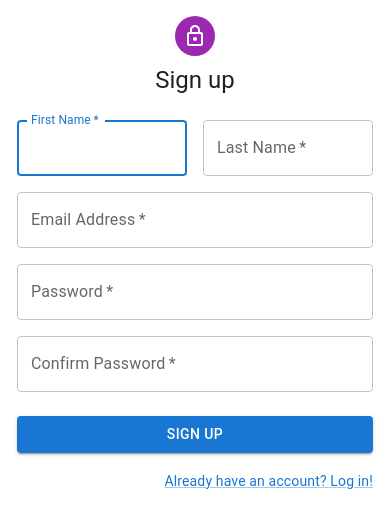
it: Sign Up Page › shows error message when passwords do not match
Type "test@example.com" into the field labelled "Email Address *". click: (195,220)
box: [17,192,373,248]
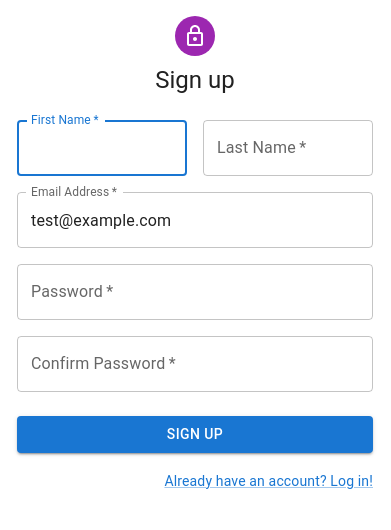
Type "Test" into the field labelled "First Name *". click: (102,148)
box: [17,120,187,176]
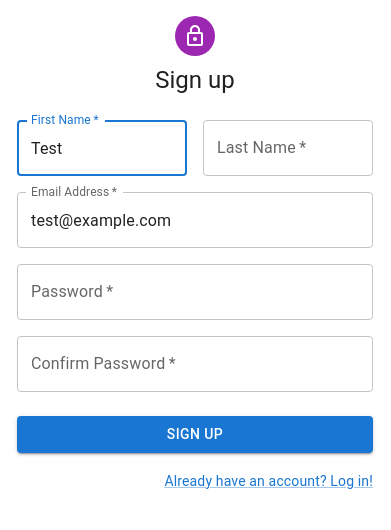
Type "User" into the field labelled "Last Name *". click: (288,148)
box: [203,120,373,176]
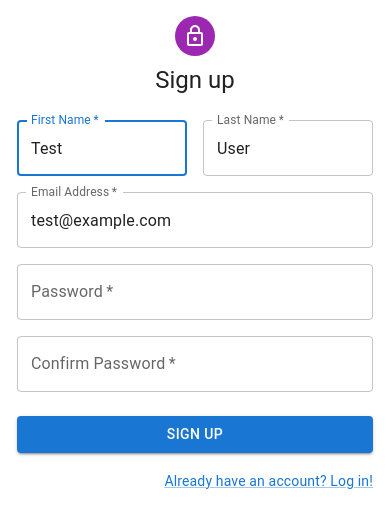
Type "password123" into the password field labelled "Password *". click: (195,292)
box: [17,264,373,320]
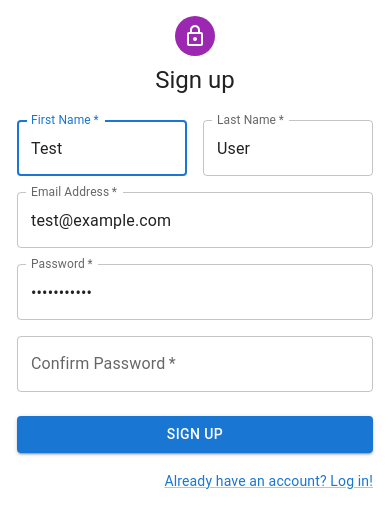
Type "password124" into the password field labelled "Confirm Password *". click: (195,364)
box: [17,336,373,392]
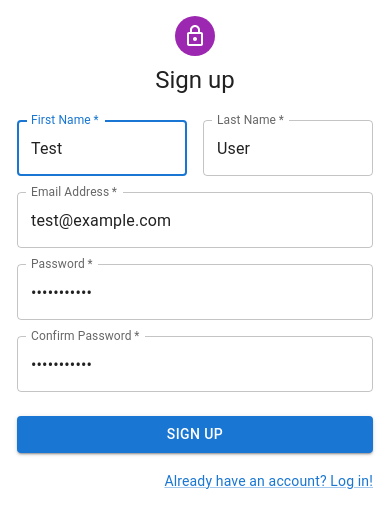
Click the button with test id "signup-button". click: (195,434)
box: [17,416,373,452]
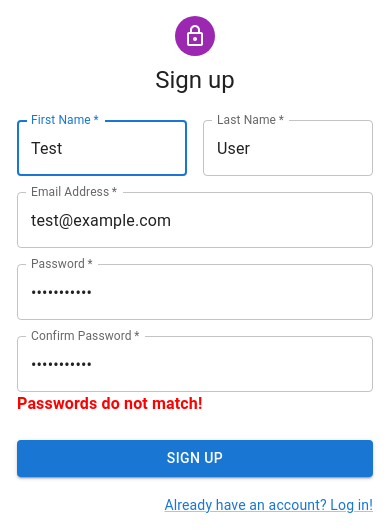
Expected: the text "Passwords do not match!" is shown, [17,394,202,413]
